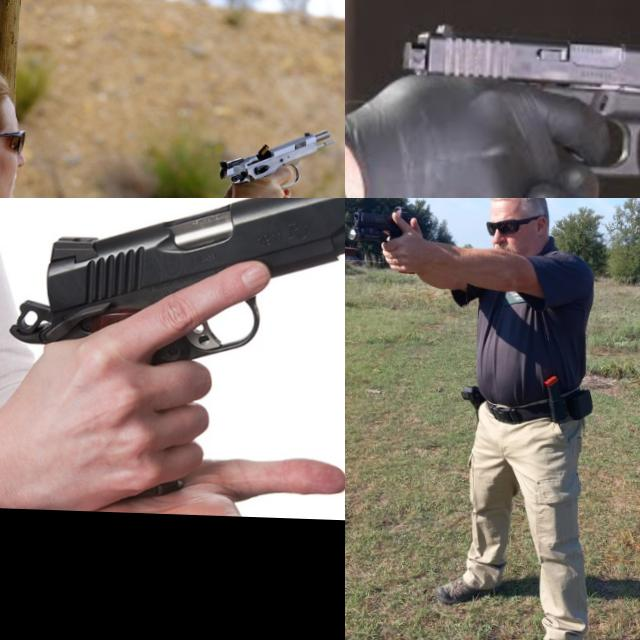handgun: (5, 198, 345, 377), (390, 17, 640, 195), (216, 125, 336, 192), (346, 201, 416, 246), (345, 227, 361, 264)
